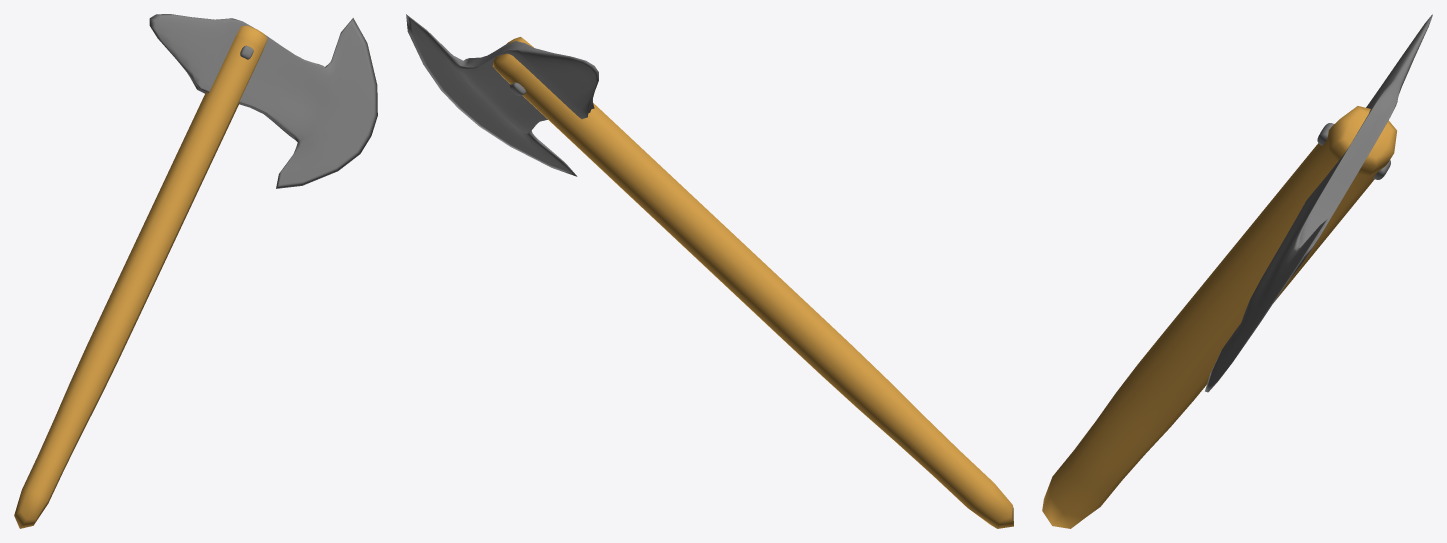
Rendered from Hache.fbx.
3 views of the same model, side by side, from view 1: azimuth 30°, elevation 25°; view 2: azimuth 150°, elevation 25°; view 3: azimuth 270°, elevation 25° (orthographic). The views are drawn at different scales.
Visible parts, largest first — view 1: Axe; view 2: Axe; view 3: Axe.
Boxes of the visible parts, <box> form: Axe: <box>14,14,377,528</box>; Axe: <box>406,14,1013,528</box>; Axe: <box>1042,14,1432,528</box>.
Bounding box in the file's own units: 214 × 189 × 93.36.
